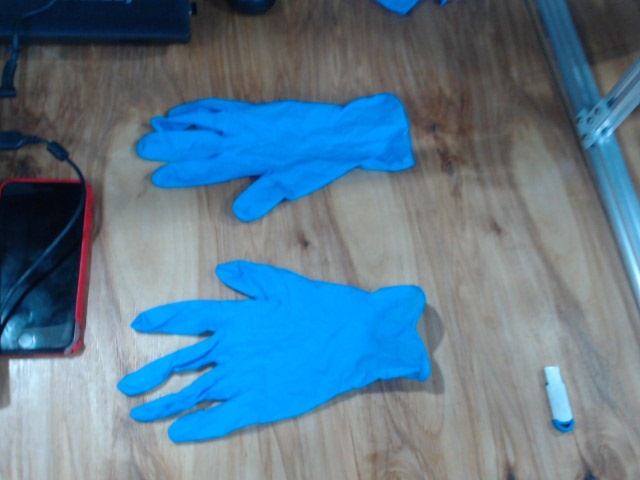medical_glove: (117, 261, 431, 443), (135, 94, 415, 221)
